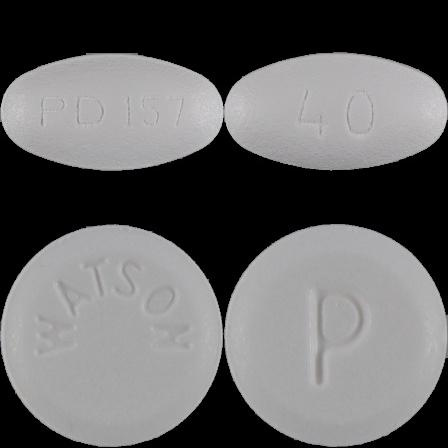54868-4229: (0, 0, 224, 224)
